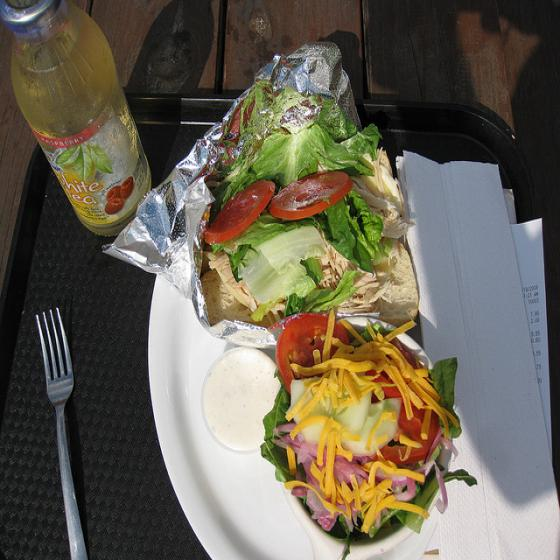bottle: (1, 2, 154, 236)
fork: (36, 308, 88, 560)
sandwich: (205, 122, 421, 335)
